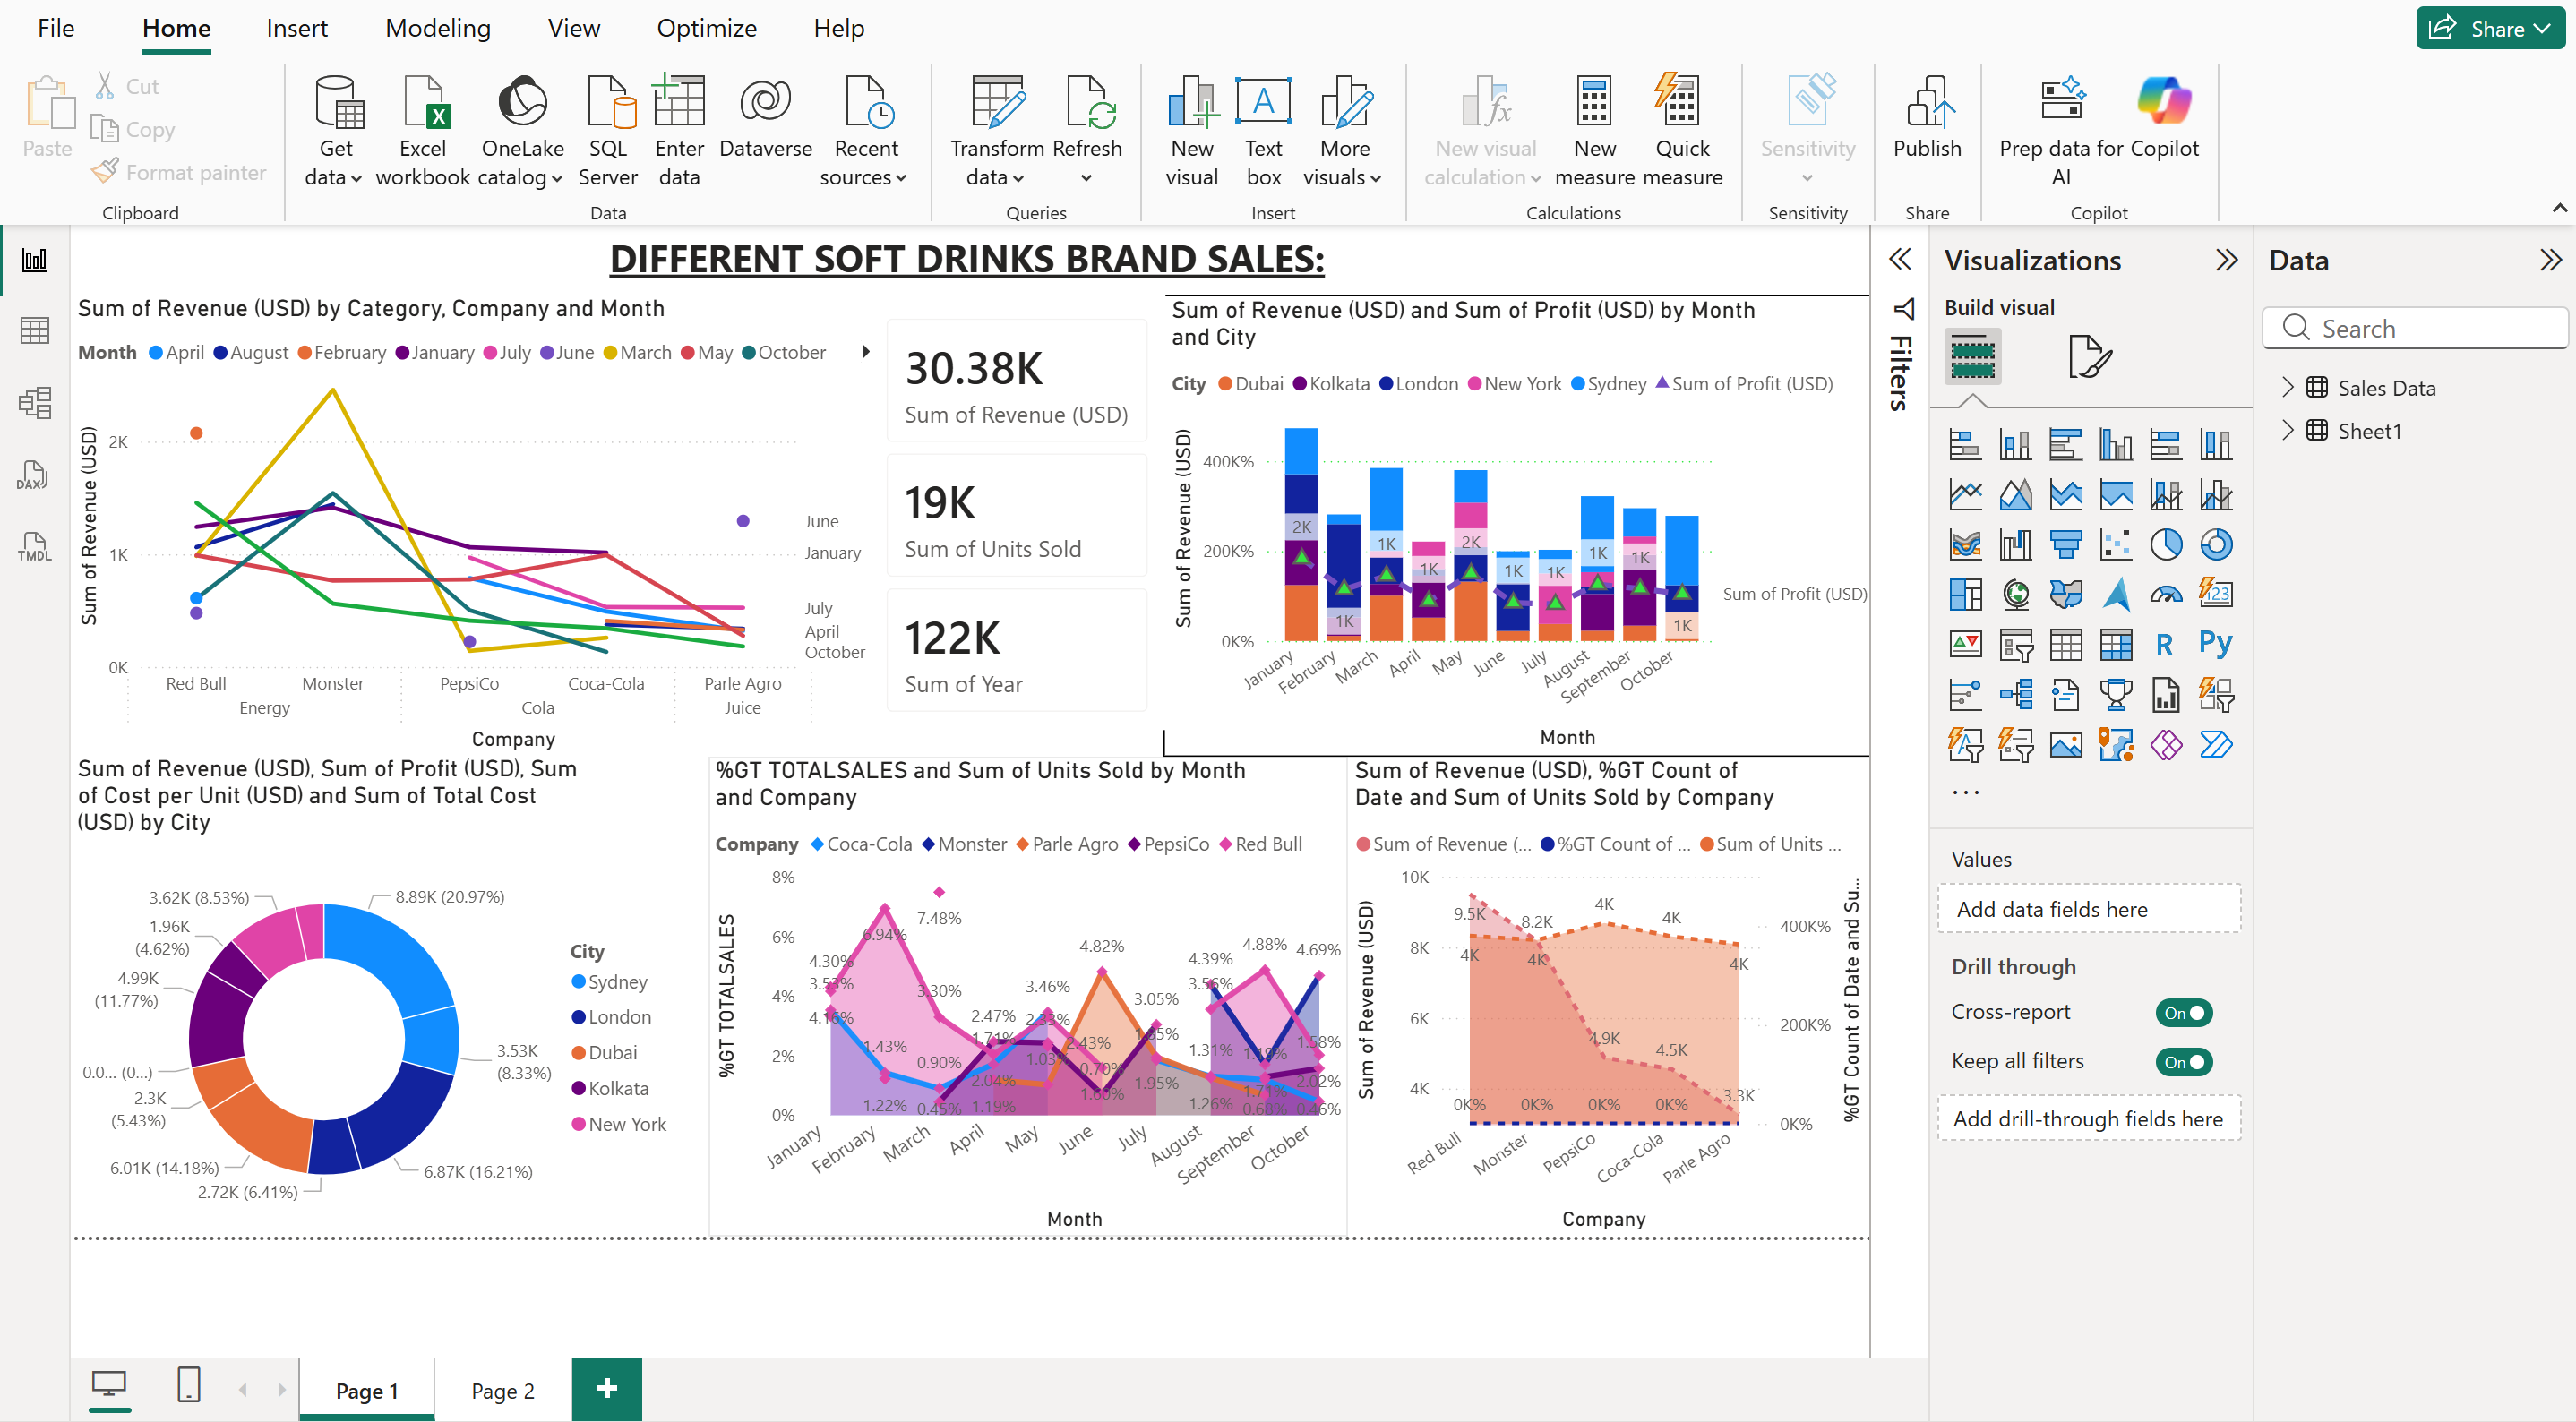

This screenshot's page, from the dashboard's own definition file:
{"tool":"powerbi","page":{"name":"Page 1","canvas":[1280,720],"ordinal":0},"visuals":[{"type":"lineChart","fields":{"Series":["Sales Data.Month"],"Category":["Sales Data.Category","Sales Data.Company"],"Y":["Sum(Sales Data.Revenue (USD))"]},"box":[0,49.4,585.4,329.4],"z":0},{"type":"donutChart","fields":{"Category":["Sales Data.City"],"Y":["Sum(Sales Data.Revenue (USD))","Sum(Sales Data.Profit (USD))","Sum(Sales Data.Cost per Unit (USD))"]},"box":[0,378,438.5,342],"z":1000},{"type":"textbox","box":[196.1,0,883.3,49.4],"z":2000},{"type":"lineChart","fields":{"Y":["Sales Data.TOTALSALES"],"Category":["Sales Data.Date.Variation.Date Hierarchy.Month"],"Series":["Sales Data.Company"]},"box":[453.9,378.6,455.1,341.7],"z":3000},{"type":"areaChart","fields":{"Category":["Sales Data.Company"],"Y":["Sum(Sales Data.Revenue (USD))"],"Y2":["CountNonNull(Sales Data.Date)","Sum(Sales Data.Units Sold)"]},"box":[909,378.6,371,341.7],"z":4000},{"type":"lineStackedColumnComboChart","fields":{"Category":["Sales Data.Date.Variation.Date Hierarchy.Year","Sales Data.Date.Variation.Date Hierarchy.Quarter","Sales Data.Date.Variation.Date Hierarchy.Month","Sales Data.Date.Variation.Date Hierarchy.Day"],"Y":["Sum(Sales Data.Revenue (USD))"],"Y2":["Sum(Sales Data.Profit (USD))"],"Series":["Sales Data.City"]},"box":[777.7,49.7,507.4,328.9],"z":5000},{"type":"cardVisual","fields":{"Data":["Sum(Sales Data.Revenue (USD))","Sum(Sales Data.Units Sold)","Sum(Sales Data.Year)"]},"box":[568.6,49.7,210.4,309.8],"z":6000}]}

Visuals, with their boxes on the page's 1280x720 design canvas (x1, y1, x2, y2). These are canvas units, not pixel positions in the 2576x1422 screenshot, which may show the page scaled, cropped or inside an application window:
lineChart - Sales Data.Month x Sales Data.Category: Rect(0, 49, 585, 379)
donutChart - Sales Data.City x Sum(Sales Data.Revenue (USD)): Rect(0, 378, 438, 720)
textbox: Rect(196, 0, 1079, 49)
lineChart - Sales Data.TOTALSALES x Sales Data.Date.Variation.Date Hierarchy.Month: Rect(454, 379, 909, 720)
areaChart - Sales Data.Company x Sum(Sales Data.Revenue (USD)): Rect(909, 379, 1280, 720)
lineStackedColumnComboChart - Sales Data.Date.Variation.Date Hierarchy.Year x Sales Data.Date.Variation.Date Hierarchy.Quarter: Rect(778, 50, 1285, 379)
cardVisual - Sum(Sales Data.Revenue (USD)) x Sum(Sales Data.Units Sold): Rect(569, 50, 779, 360)
